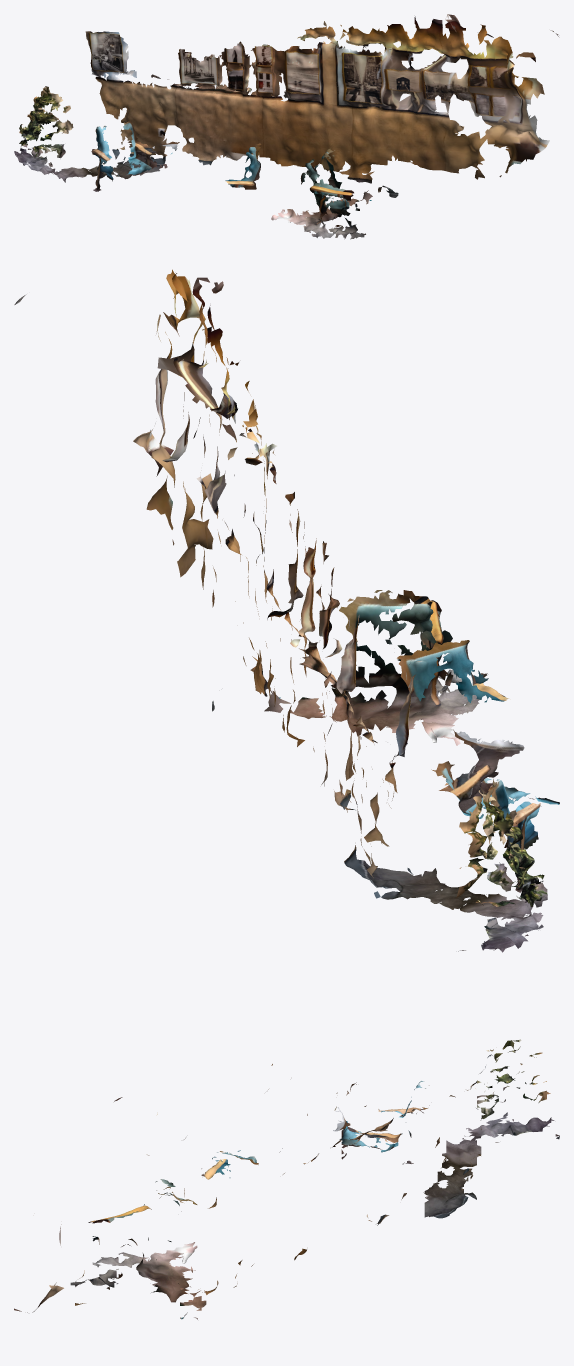
File: 137396-PolyLounge-tex.glb
3 views of the same model, one above another, from view 1: azimuth 30°, elevation 25°; view 2: azimuth 150°, elevation 25°; view 3: azimuth 270°, elevation 25° (orthographic). The views are drawn at different scales.
Parts seen in each view (by area): view 1: Node; view 2: Node; view 3: Node.
Part boxes in pixels (bbox=[...]): Node: bbox=[14, 14, 559, 239]; Node: bbox=[14, 269, 559, 952]; Node: bbox=[14, 1039, 559, 1319].
Bounding box in the file's own units: 6.29 × 2.87 × 4.85.
Materials: 2 (2 with a texture image).
